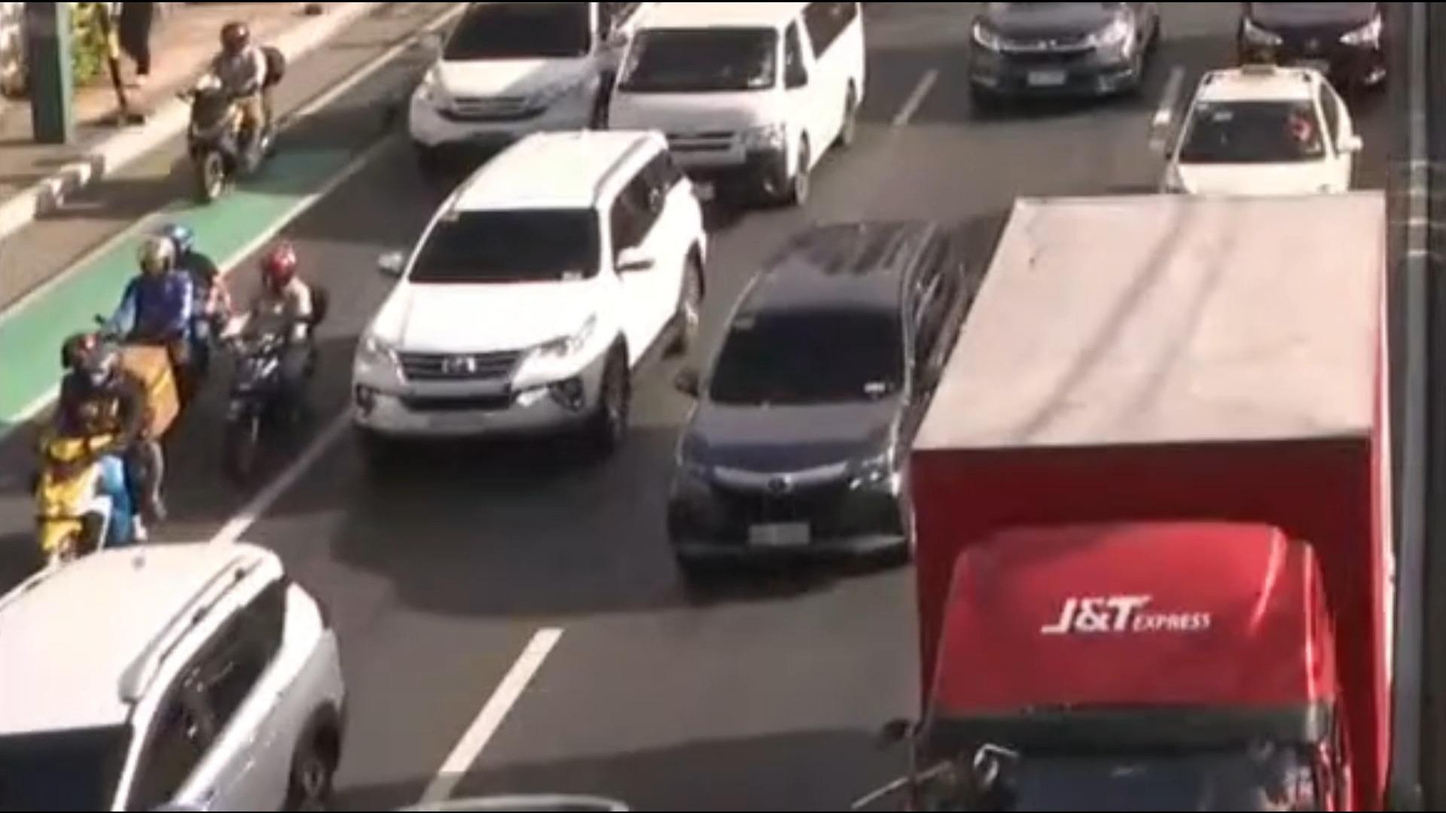Motorcycle: (21, 318, 189, 588), (209, 238, 339, 477), (100, 209, 239, 420), (168, 4, 320, 190)
SUV: (343, 111, 720, 497), (0, 482, 403, 813), (652, 194, 985, 581), (390, 0, 637, 155), (966, 0, 1213, 113)
Sedan: (1155, 53, 1399, 208)
Truck: (864, 179, 1446, 813)
Van: (606, 0, 880, 205)
